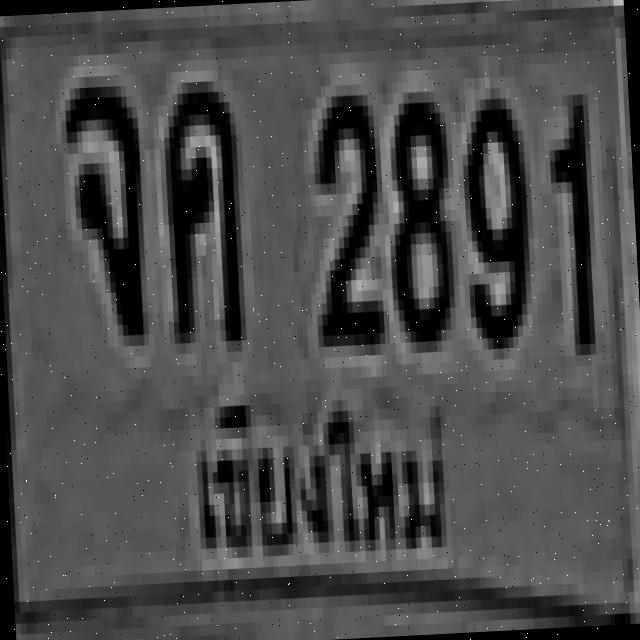1: (541, 84, 596, 346)
13KhorKhwai: (156, 74, 242, 338)
17ChorChan: (59, 75, 144, 339)
2: (308, 84, 382, 336)
8: (382, 86, 452, 338)
9: (454, 88, 528, 340)
ChiangMai: (172, 374, 454, 576)
